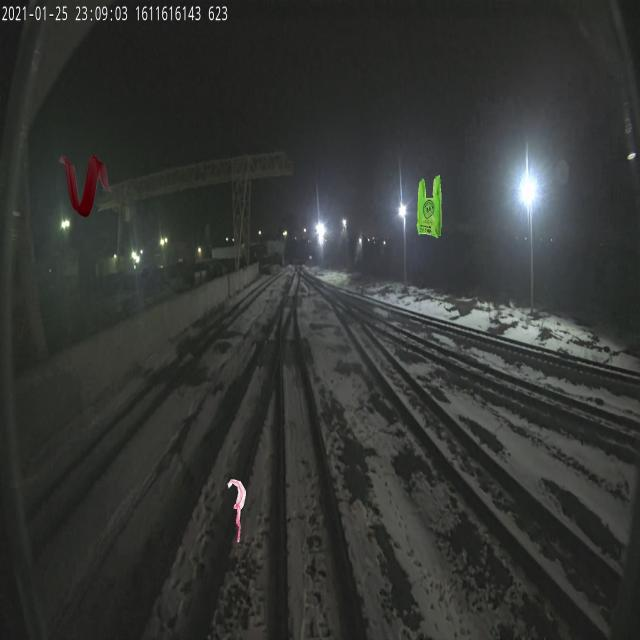floating object: (59, 154, 112, 218), (228, 478, 246, 542)
plastic bag: (416, 174, 442, 238)
